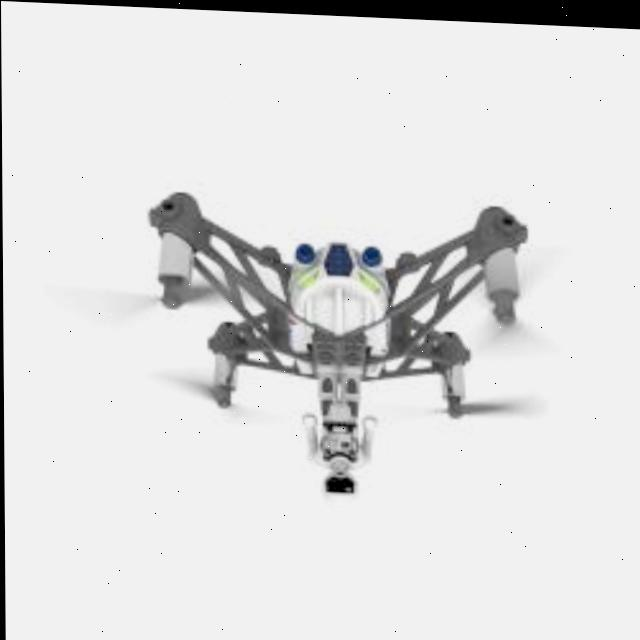drone: (90, 178, 564, 515)
